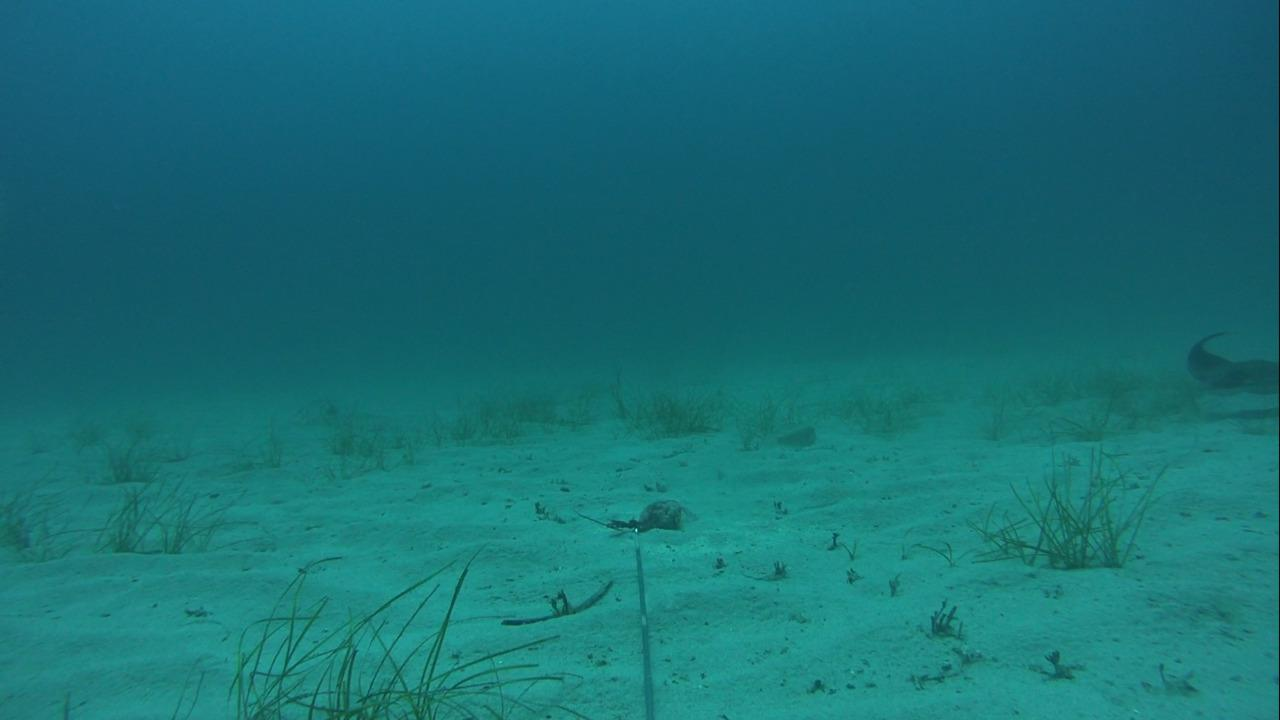myliobatis: (1181, 324, 1279, 402)
raor: (765, 419, 825, 451)
